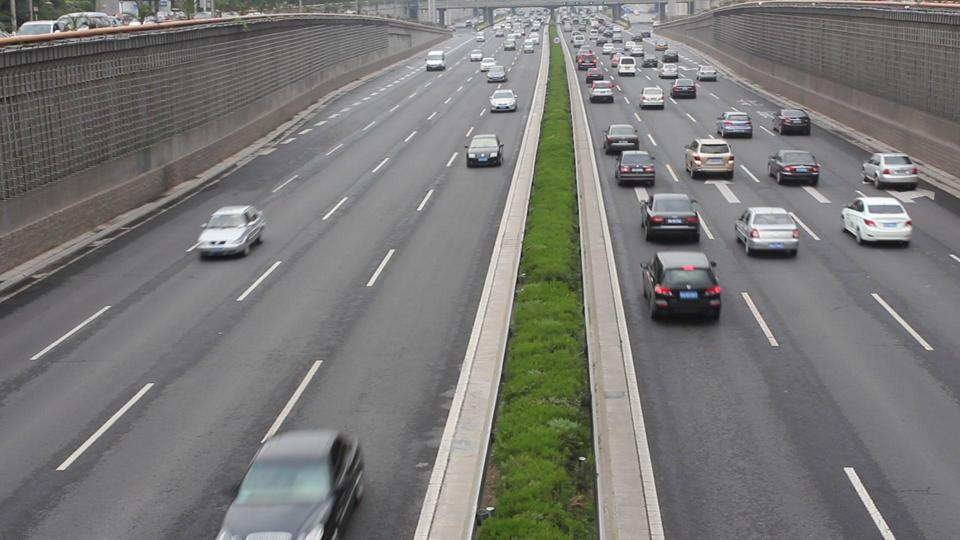Car: (218, 434, 365, 528), (641, 249, 718, 324), (840, 197, 908, 248), (732, 205, 796, 256), (199, 205, 262, 256), (640, 191, 696, 242), (856, 151, 914, 189), (684, 138, 730, 177), (767, 149, 815, 185), (614, 148, 653, 187), (769, 107, 808, 138), (464, 133, 501, 165), (602, 123, 637, 154), (713, 111, 750, 138), (636, 85, 663, 108)
